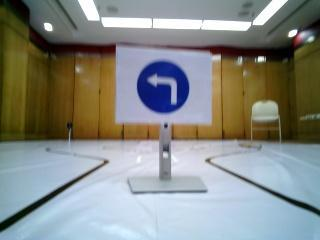left: (120, 45, 211, 123)
